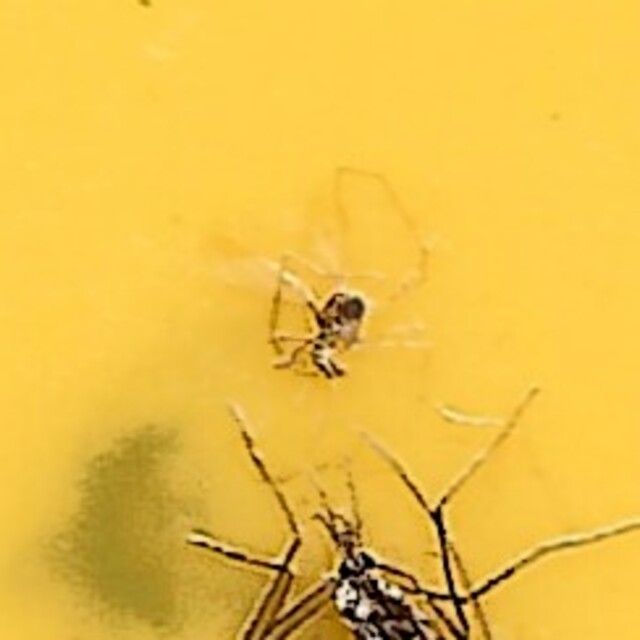Nematocera: (262, 251, 378, 389)
